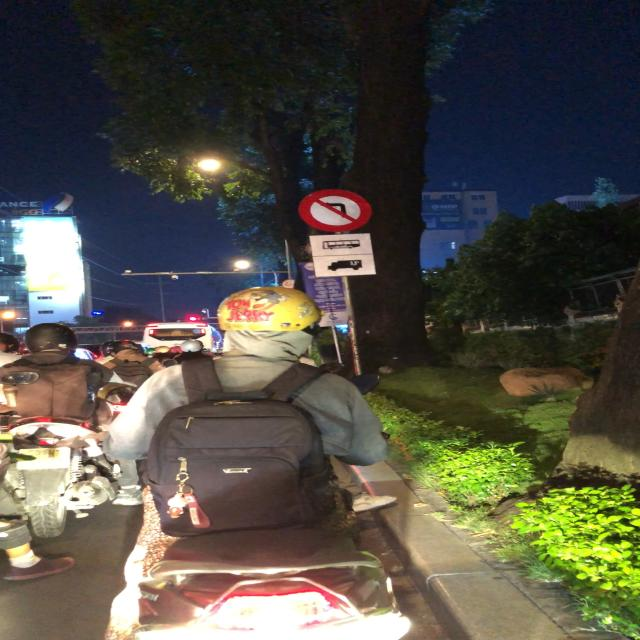Bien bao cam re trai: (295, 187, 377, 233)
